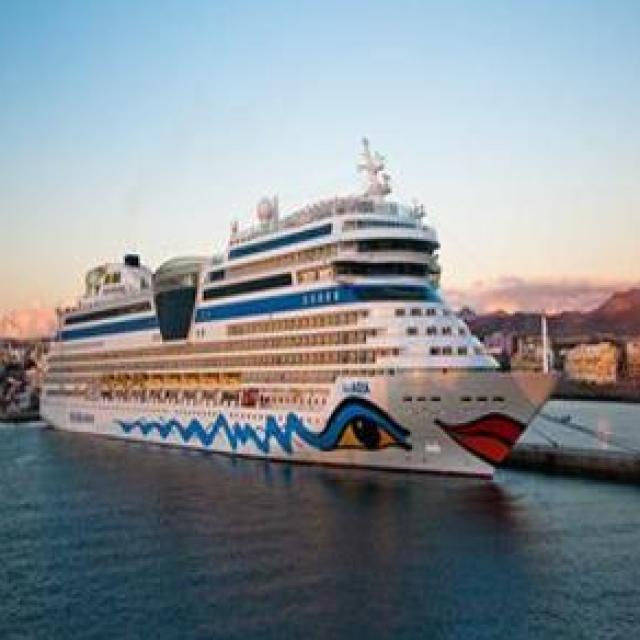passenger ship: (29, 183, 556, 474)
